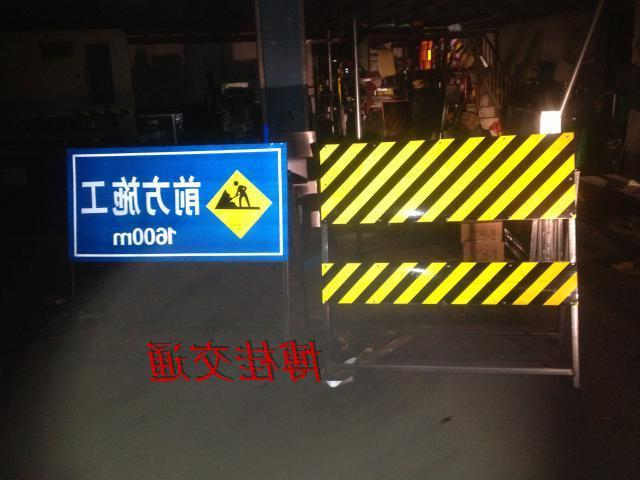sign: (318, 134, 580, 308), (69, 152, 282, 261)
